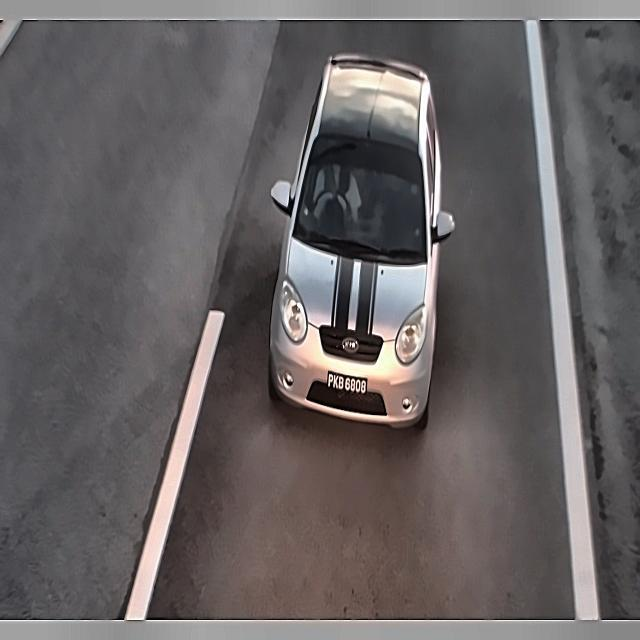car: (322, 365, 377, 402)
